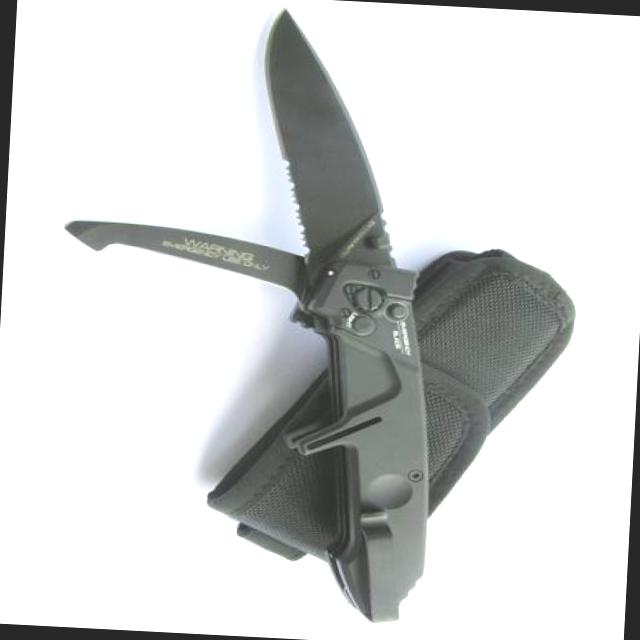knife: (244, 0, 436, 281)
